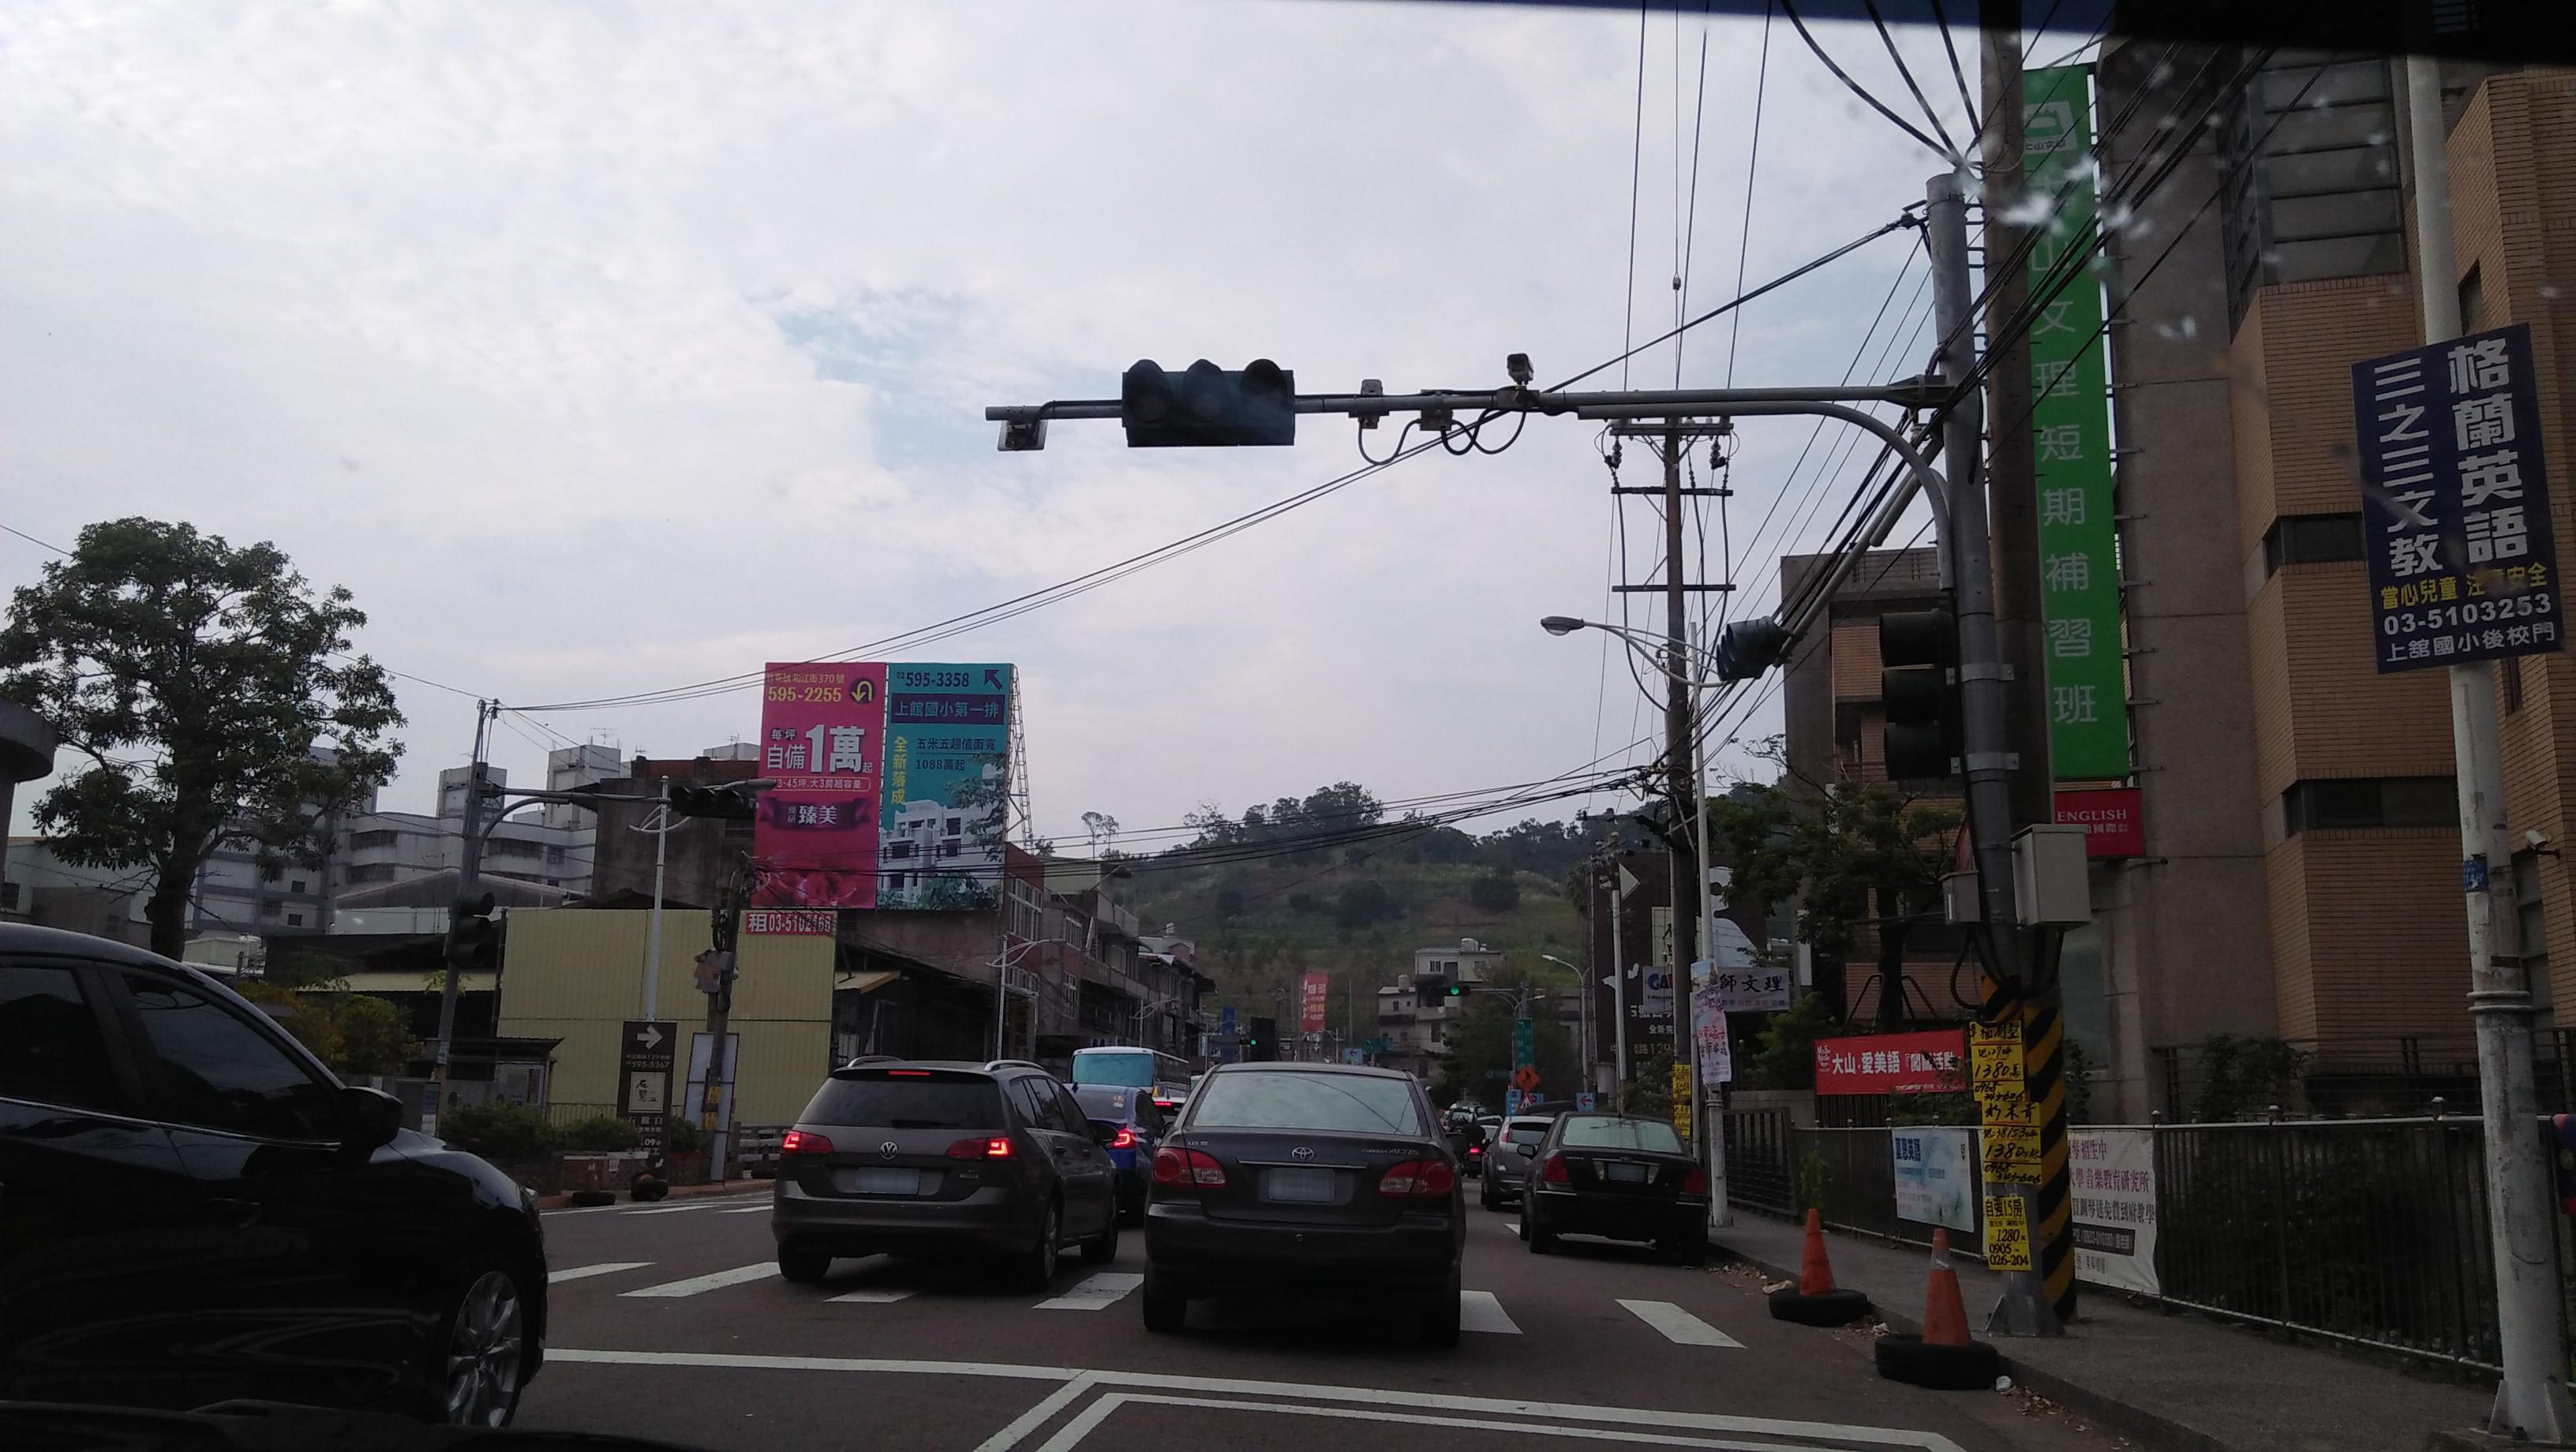vinyl banner: (2049, 1130, 2171, 1298), (1881, 1116, 2001, 1243), (1810, 1013, 1985, 1100), (1631, 943, 1803, 1028)
